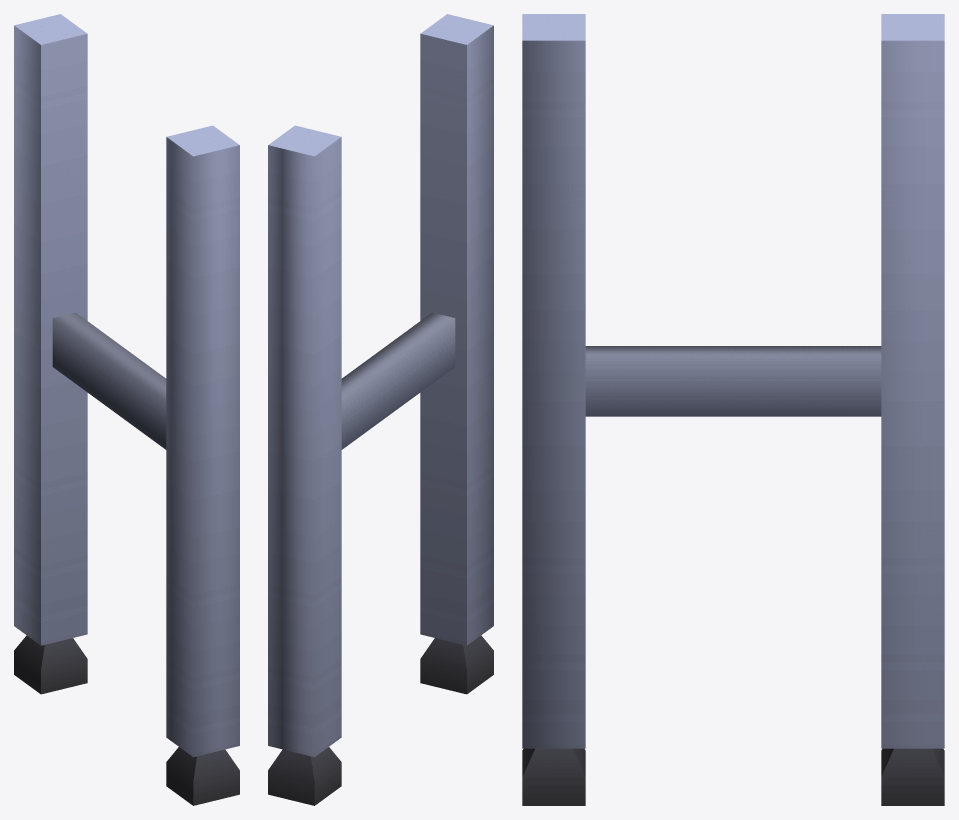
File: structure-tall.glb
The picture shows the model from 3 angles, left to right: view 1: azimuth 30°, elevation 25°; view 2: azimuth 150°, elevation 25°; view 3: azimuth 270°, elevation 25°; orthographic projection. The views are drawn at different scales.
Visible parts, largest first — view 1: structure-tall; view 2: structure-tall; view 3: structure-tall.
Boxes of the visible parts, <box> form: structure-tall: <box>14,14,239,805</box>; structure-tall: <box>268,14,493,805</box>; structure-tall: <box>522,14,944,805</box>.
Bounding box in the file's own units: 0.15 × 2 × 1.
1 material, 1 textured.
